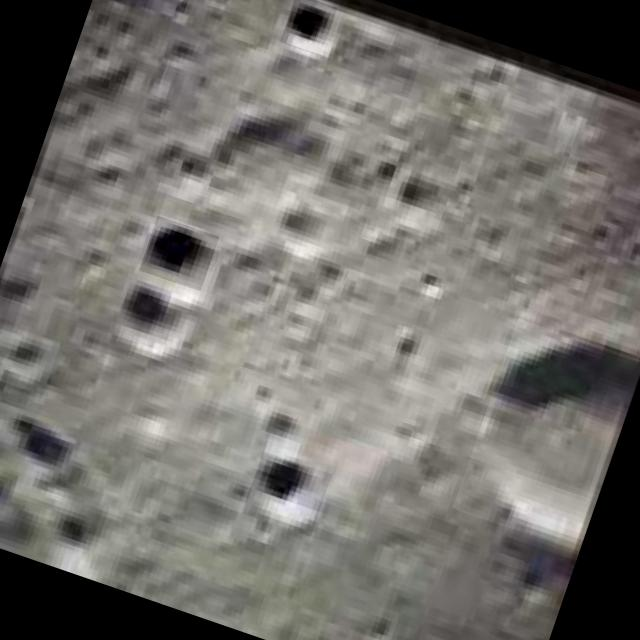crater: (452, 318, 640, 552), (104, 278, 199, 368), (241, 451, 331, 537), (138, 216, 218, 292), (279, 0, 336, 55)
